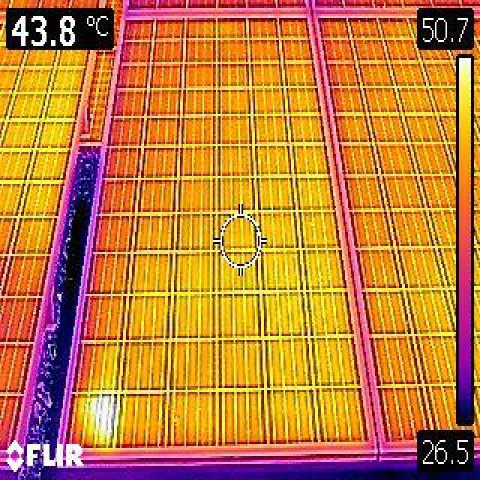fault: (66, 392, 122, 451)
